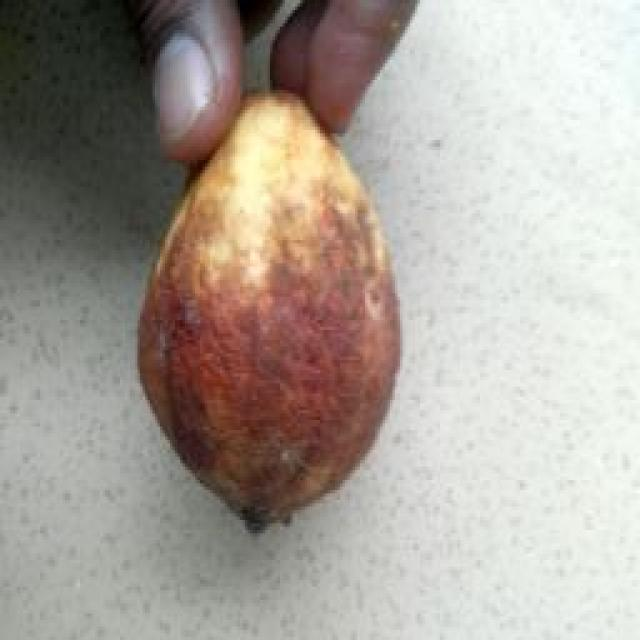Bad_Guava: (139, 93, 400, 526)
